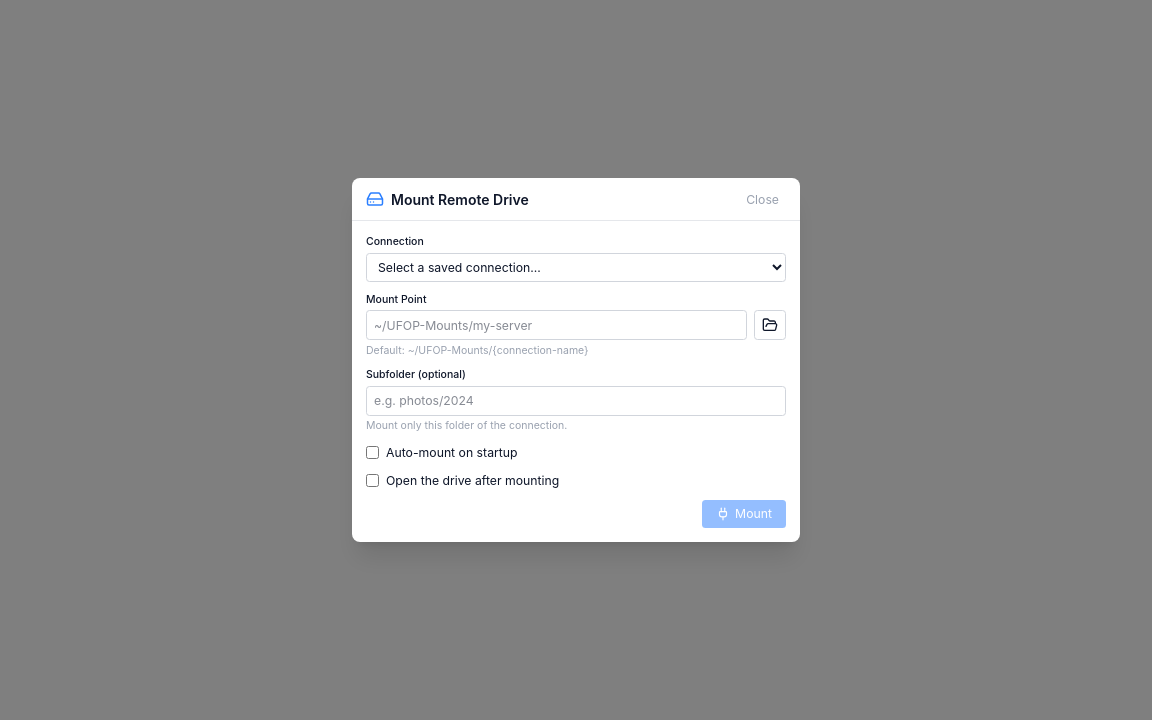
Test: folder picker in the mount dialog › picks a subfolder of the chosen connection, stored relative to its folder
The width and height of the screenshot is (1152, 720).
Select "Office NAS (SFTP - h)" in the dropdown labelled "Connection". click: (576,268)
box: [366, 253, 786, 282]
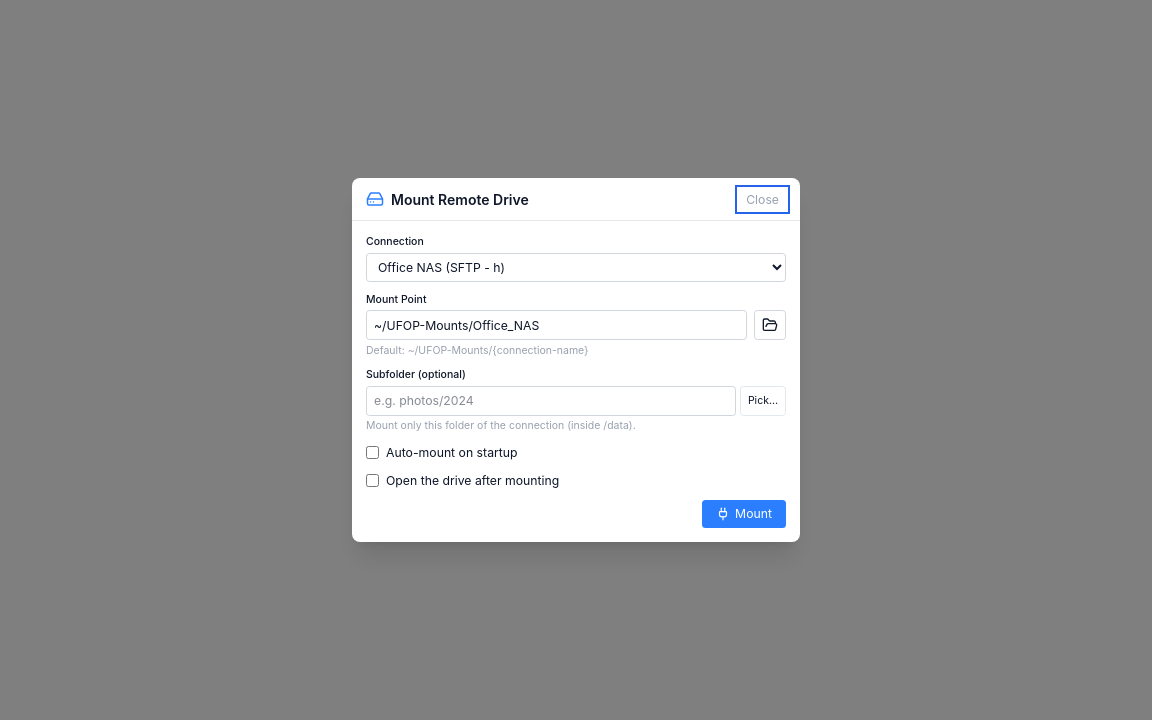
Click the button with test id "mount-subfolder-pick". click: (763,401)
box: [740, 386, 786, 416]
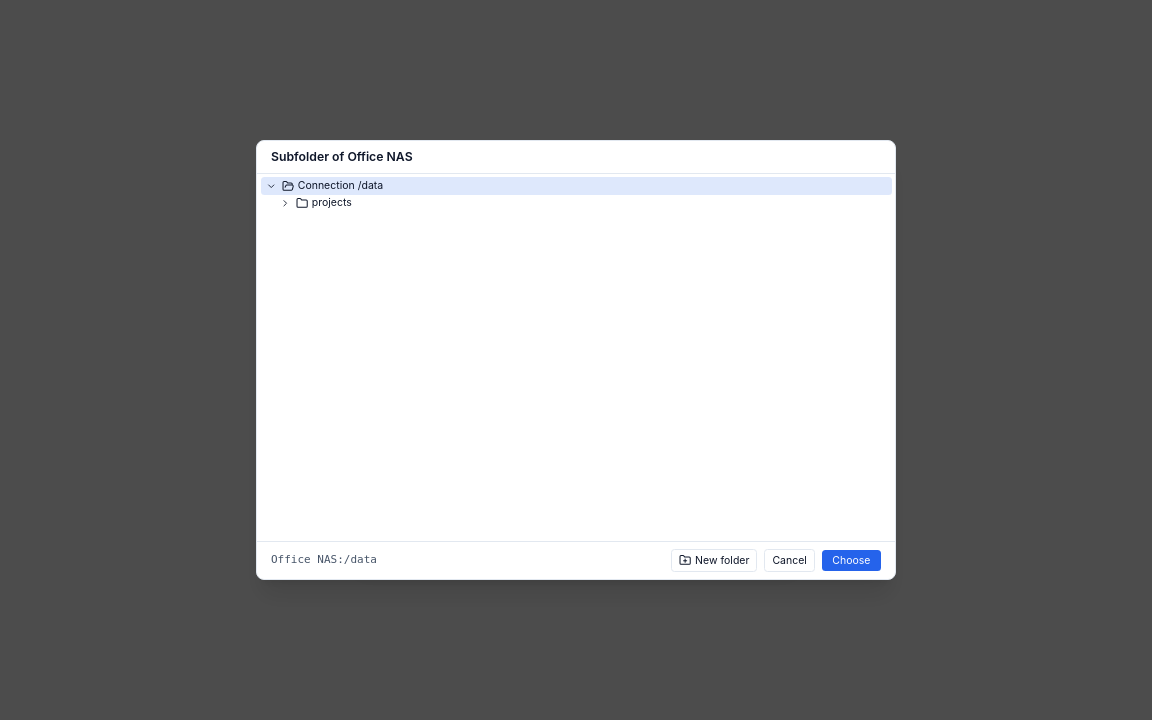
Click the button named "Expand projects". click: (286,203)
box: [278, 196, 292, 210]
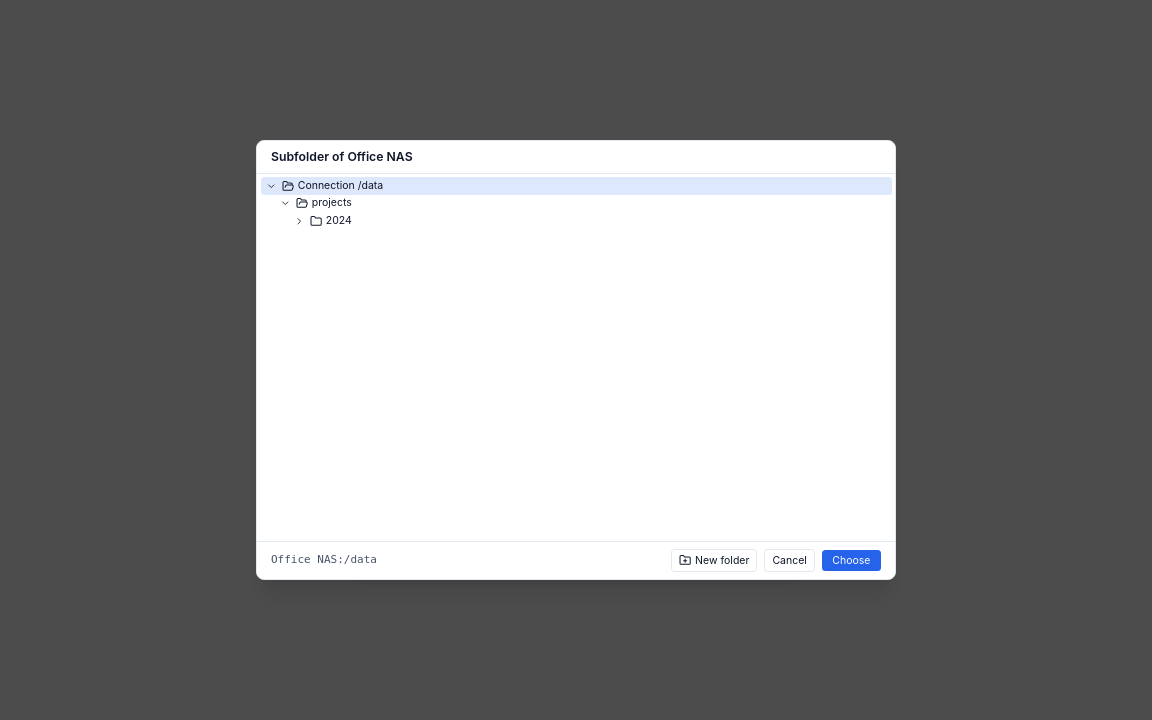
Click the text "2024". click: (339,221)
box: [326, 214, 352, 228]
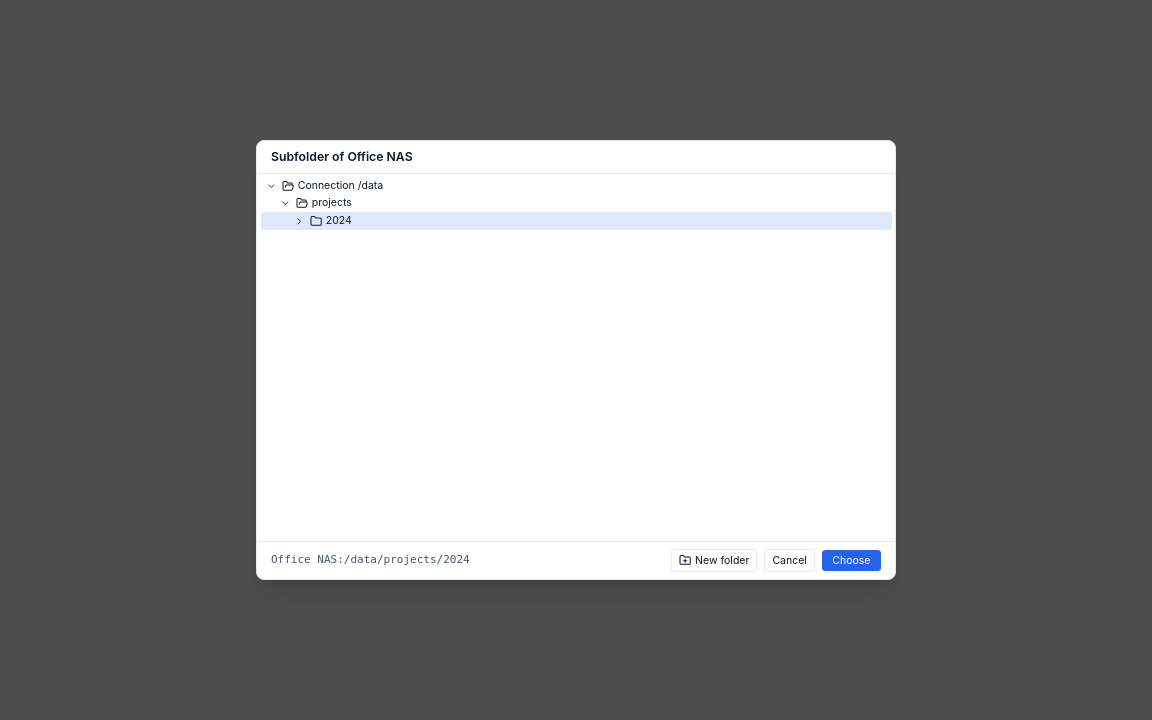
Click the button with test id "picker-choose". click: (851,560)
box: [822, 550, 881, 571]
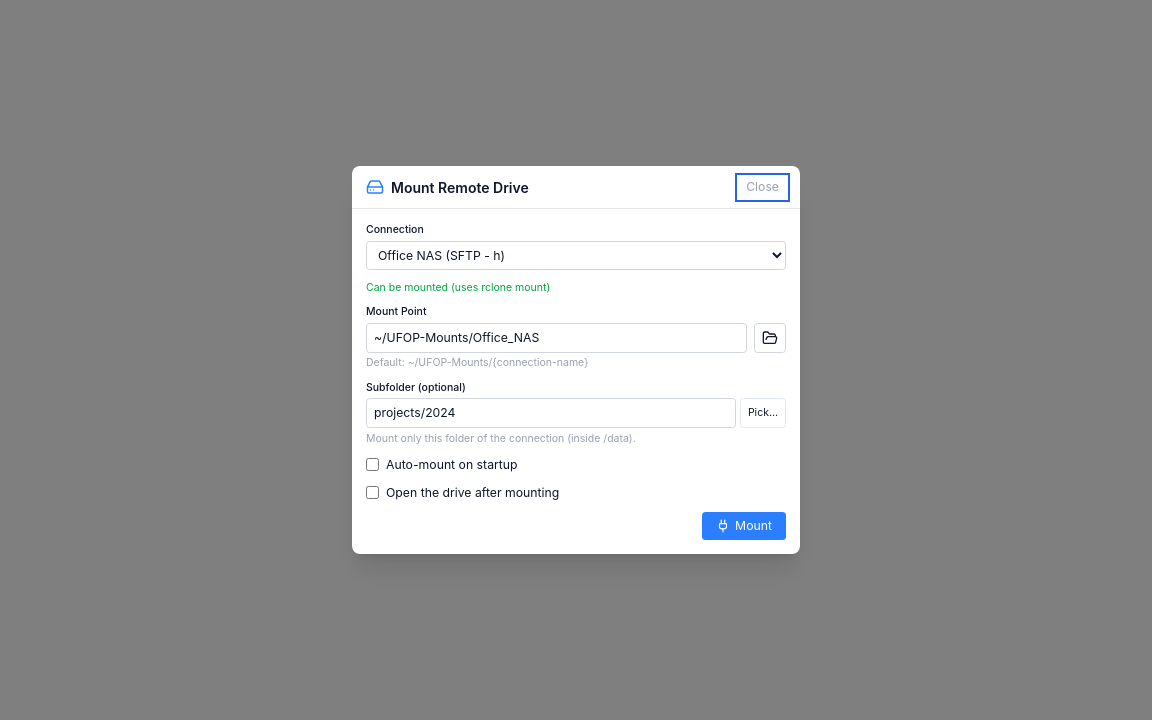
expect the field labelled "Subfolder (optional)" holds "projects/2024": met, box [366, 398, 736, 428]
